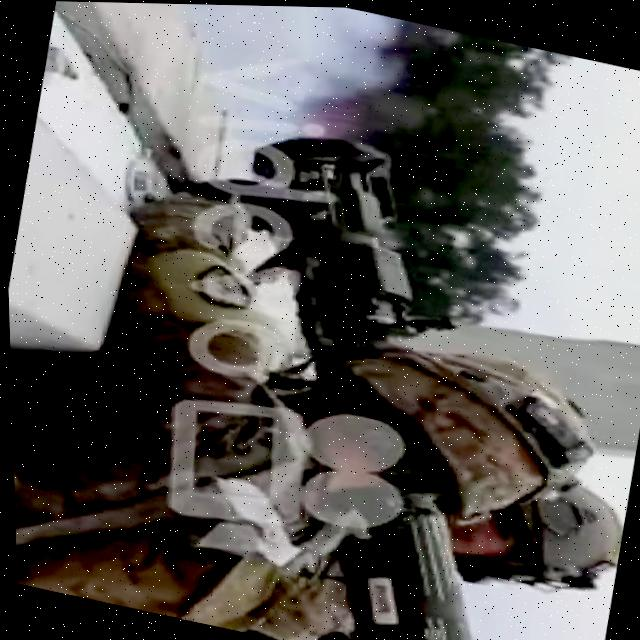rocket: (148, 95, 574, 640)
